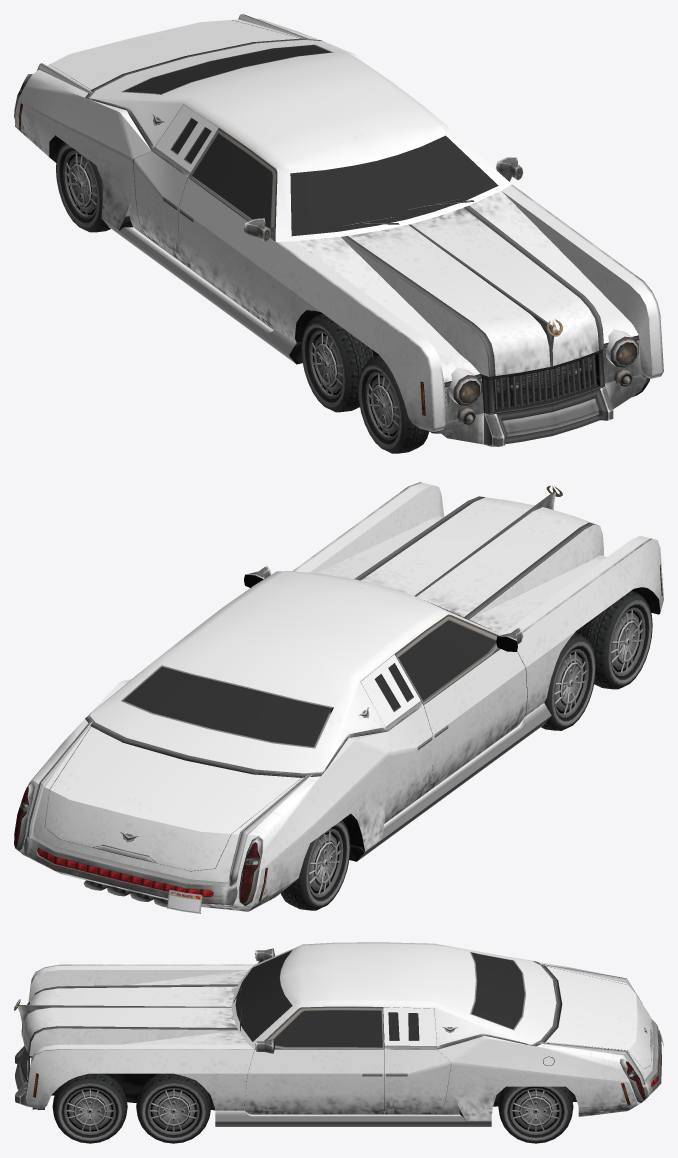
The model's file is cp alv.fbx.
3 views of the same model, one above another, from view 1: azimuth 30°, elevation 25°; view 2: azimuth 150°, elevation 25°; view 3: azimuth 270°, elevation 25° (orthographic). The views are drawn at different scales.
Parts seen in each view (by area): view 1: chassis, bonnet_ok, door_rf_ok, windscreen_ok, boot_ok, door_rr_ok, bump_front_ok, extra2, wheel, wheel1, wheel2, windback (+1 smaller); view 2: chassis, boot_ok, bonnet_ok, door_rf_ok, windback, door_rr_ok, bump_rear_ok, wheel1, wheel2, wheel, li; view 3: chassis, door_lf_ok, bonnet_ok, boot_ok, door_lr_ok, wheel4, wheel3, wheel5, windback, windscreen_ok, eng, bump_rear_ok (+2 smaller).
Part boxes in pixels (x1,y1,x2,y2): chassis: (15,14,663,431); bonnet_ok: (341,205,603,376); door_rf_ok: (178,128,277,329); windscreen_ok: (290,135,498,236); boot_ok: (50,20,300,89); door_rr_ok: (133,104,218,263); bump_front_ok: (429,374,649,446); extra2: (445,329,638,424); wheel: (301,313,373,412); wheel1: (358,355,429,453); wheel2: (56,142,110,232); windback: (124,45,330,93); chassis: (15,482,663,911); boot_ok: (45,726,300,870); bonnet_ok: (354,485,603,619); door_rf_ok: (394,614,527,791); windback: (124,667,330,746); door_rr_ok: (360,654,432,819); bump_rear_ok: (24,833,237,913); wheel1: (580,590,652,689); wheel2: (280,820,350,910); wheel: (541,632,595,730); li: (14,781,262,905); chassis: (20,942,653,1126); door_lf_ok: (245,1006,384,1114); bonnet_ok: (14,984,237,1056); boot_ok: (546,966,652,1068); door_lr_ok: (383,1007,450,1114); wheel4: (52,1073,127,1143); wheel3: (136,1073,211,1143); wheel5: (498,1086,573,1143); windback: (472,953,524,1028); windscreen_ok: (235,950,292,1041); eng: (51,1073,214,1110); bump_rear_ok: (642,1018,663,1098).
Bounding box in the file's own units: 120 × 75.65 × 334.
22 materials, 20 textured.
